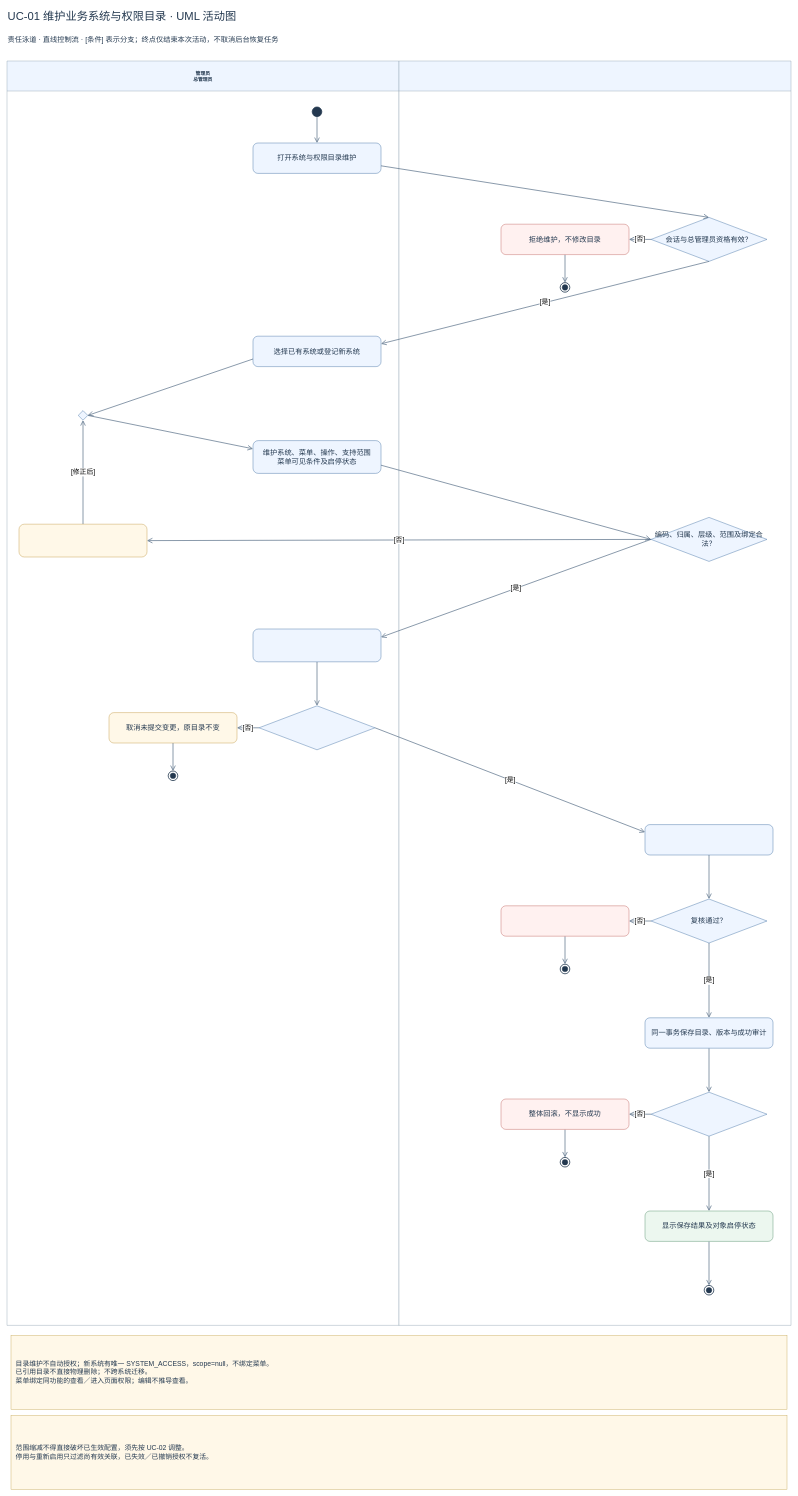
Some shapes in this 798 by 1496 pixel diagram are drawn without their labels. The box of each missing label's shape, as (x1, y1, x2, y2) in pixels:
全部提交成功？: (651, 1092, 767, 1136)
展示目录变化及引用影响 填写修改原因: (253, 629, 381, 662)
拒绝保存，提示冲突或资格变化: (501, 905, 629, 936)
提交时复核资格、版本和目录规则: (645, 824, 773, 855)
显示问题字段与原因 修正本次输入: (19, 524, 147, 557)
权限中心: (399, 61, 791, 1325)
确认保存？: (259, 705, 375, 750)
